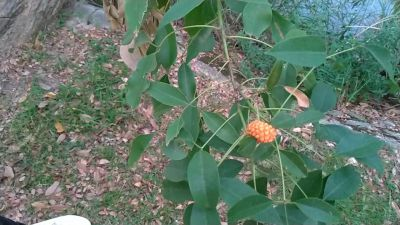eggs: (243, 116, 275, 145)
